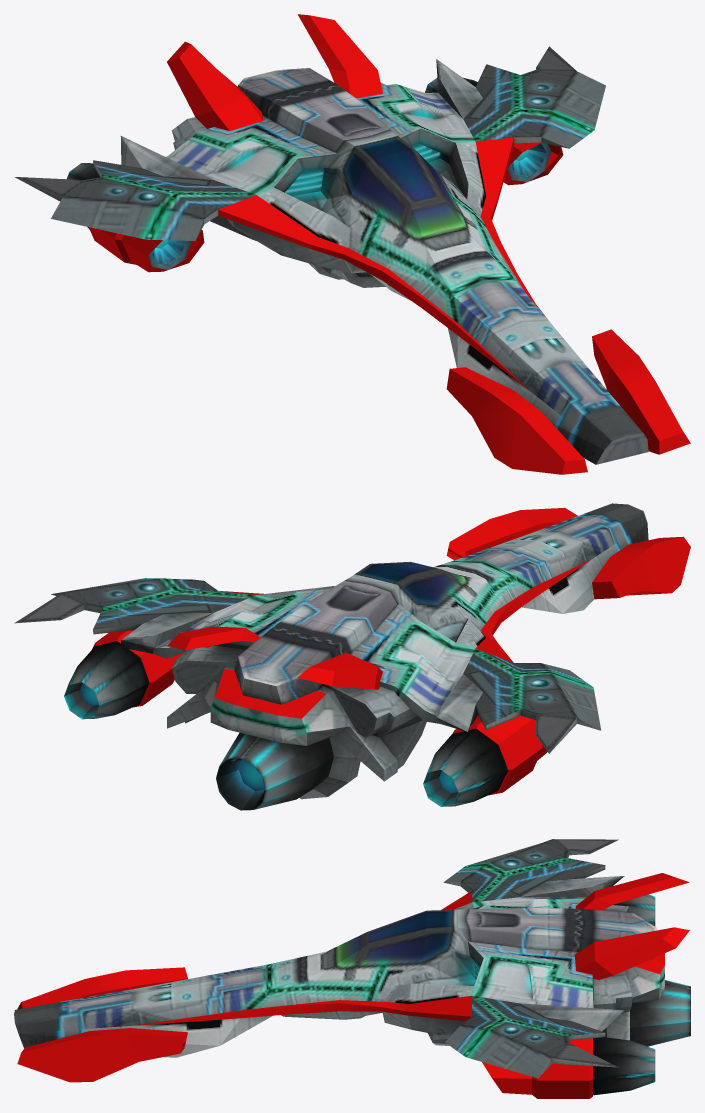
File: Genyx_lv1.fbx
3 renders of one model, top to bottom at view 1: azimuth 30°, elevation 25°; view 2: azimuth 150°, elevation 25°; view 3: azimuth 270°, elevation 25°, orthographic. The views are drawn at different scales.
Visible parts, largest first — view 1: Genyx1_Body, Genyx1_Color; view 2: Genyx1_Body, Genyx1_Color; view 3: Genyx1_Body, Genyx1_Color.
Boxes of the visible parts, x1,y1,x2,y2 form: Genyx1_Body: [15, 46, 648, 464]; Genyx1_Color: [89, 14, 690, 474]; Genyx1_Body: [14, 503, 648, 810]; Genyx1_Color: [92, 507, 690, 795]; Genyx1_Body: [14, 839, 690, 1095]; Genyx1_Color: [17, 873, 689, 1098].
Bounding box in the file's own units: 39.9 × 12.68 × 48.44.
